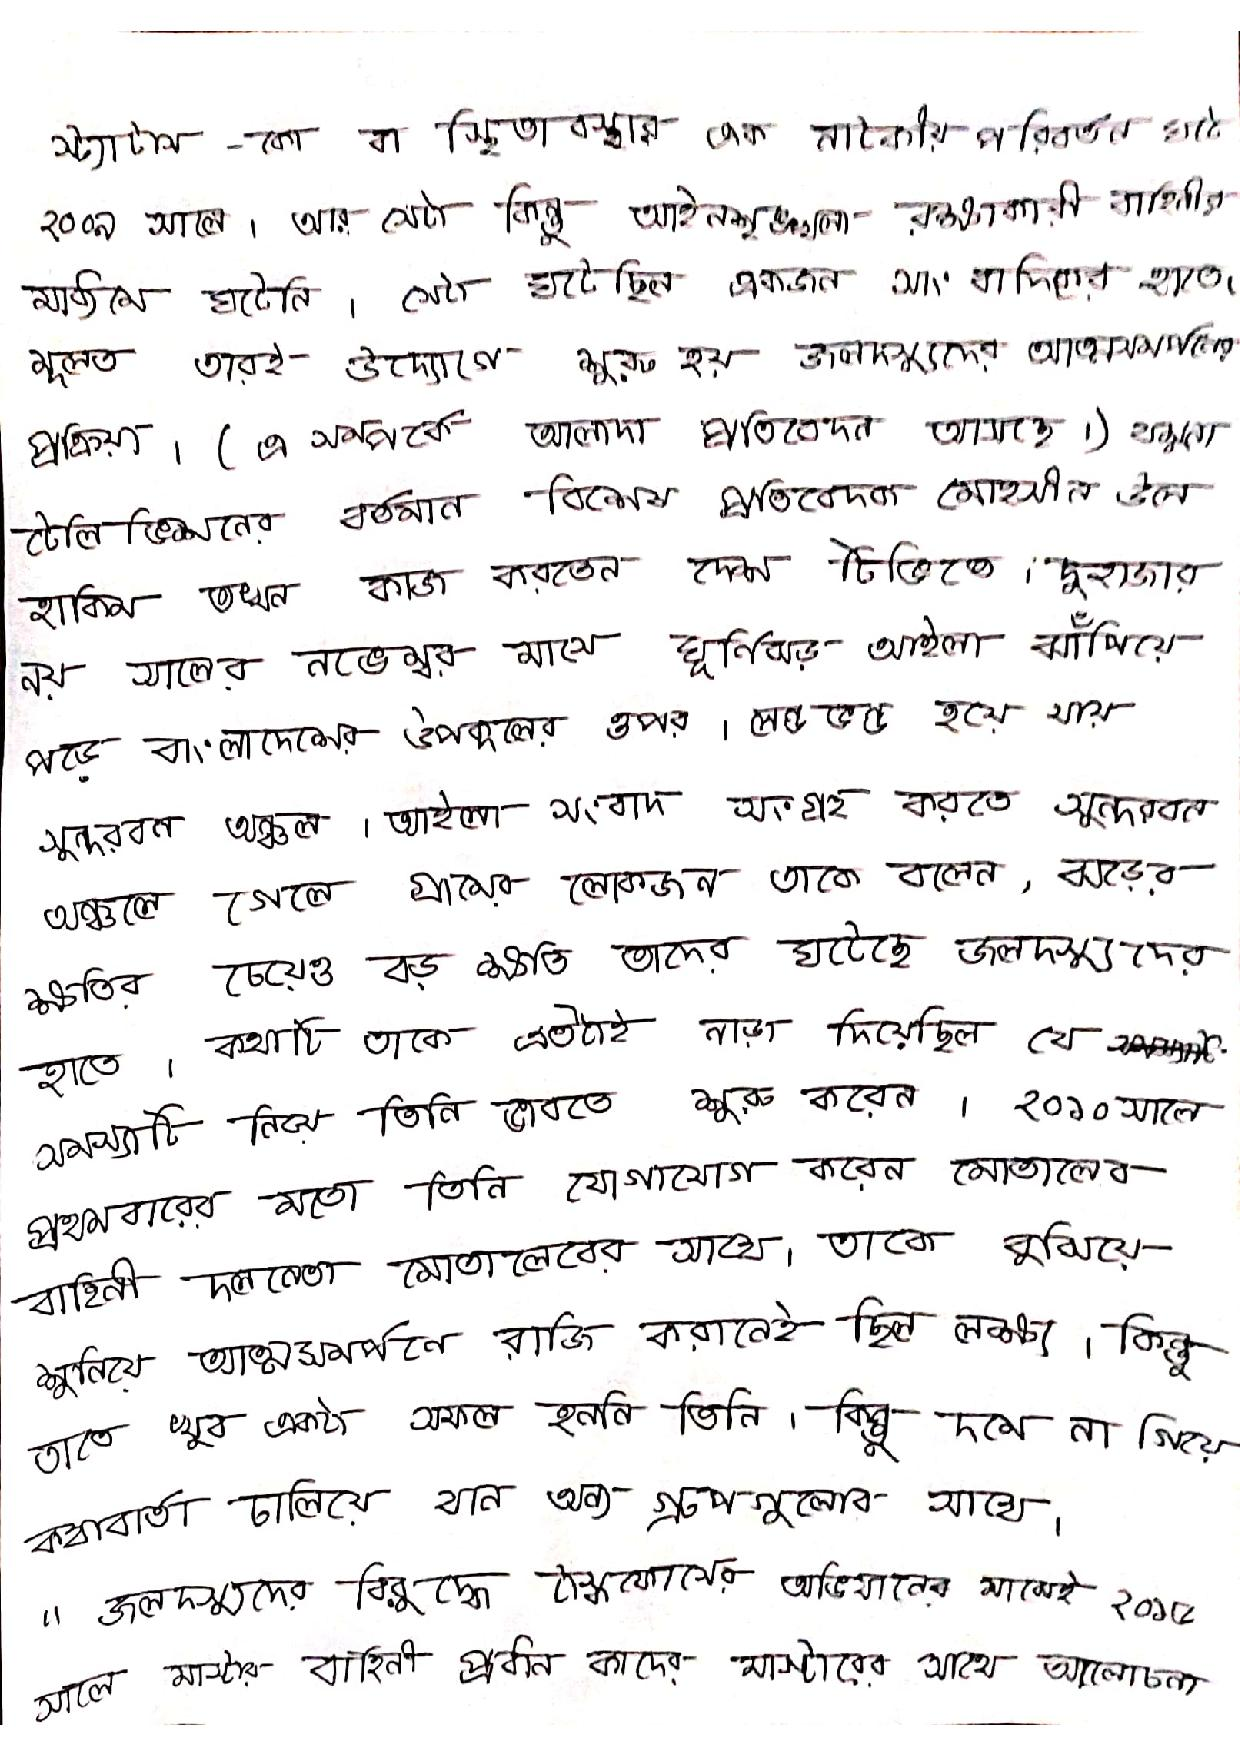line: (38, 1294, 1228, 1404), (21, 914, 1223, 1023), (19, 1002, 1229, 1108), (17, 533, 1216, 633), (38, 1631, 1208, 1729), (17, 1231, 1178, 1329), (17, 613, 1201, 709), (35, 1087, 1225, 1181), (21, 1157, 1174, 1253), (17, 472, 1209, 564), (32, 1388, 1239, 1478), (39, 854, 1215, 937), (17, 697, 1131, 784), (36, 786, 1216, 866), (42, 1557, 1201, 1636), (39, 176, 1227, 250), (25, 1474, 1062, 1557), (30, 319, 1239, 386), (30, 403, 1228, 470), (25, 258, 1236, 321), (46, 107, 1228, 166)
